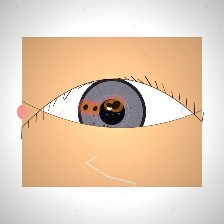foreign_body_visible: (71, 95, 100, 119)
